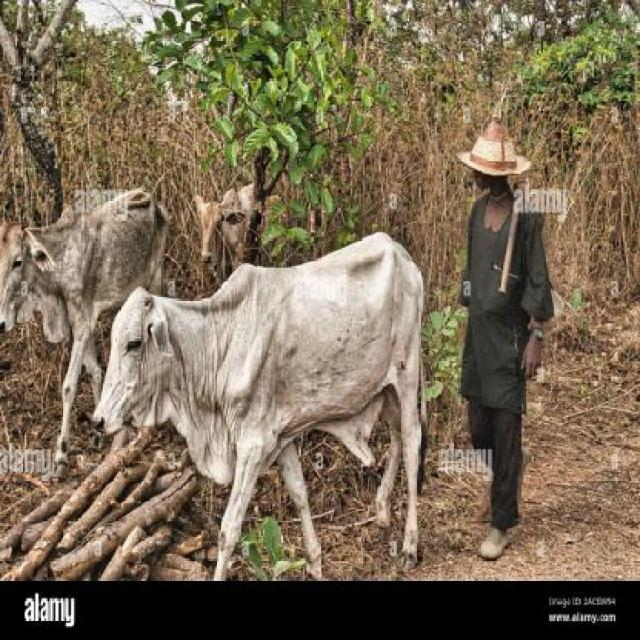Cow: (90, 231, 428, 571), (0, 184, 172, 480), (199, 180, 266, 286)
